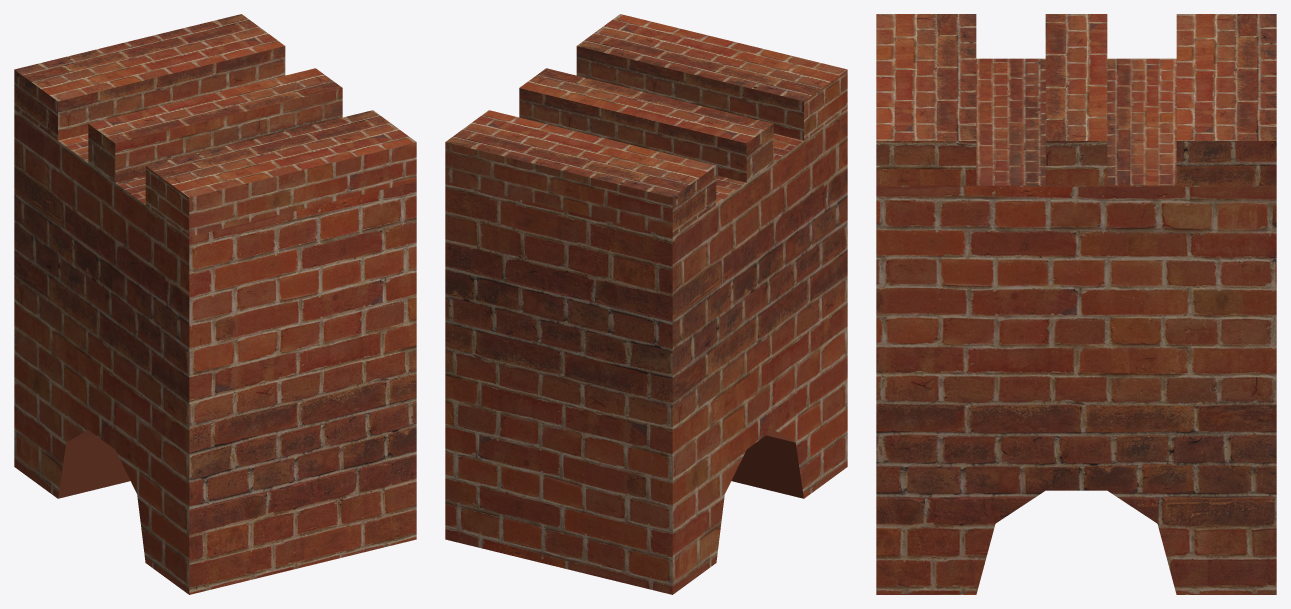
Rendered from SlidingWall.fbx.
3 views of the same model, side by side, from view 1: azimuth 30°, elevation 25°; view 2: azimuth 150°, elevation 25°; view 3: azimuth 270°, elevation 25° (orthographic). The views are drawn at different scales.
Visible parts, largest first — view 1: 円; view 2: 円; view 3: 円.
Boxes of the visible parts, <box> form: 円: <box>14,14,416,594</box>; 円: <box>445,14,847,594</box>; 円: <box>876,14,1276,594</box>.
Bounding box in the file's own units: 300 × 501 × 400.
1 material, 1 textured.
